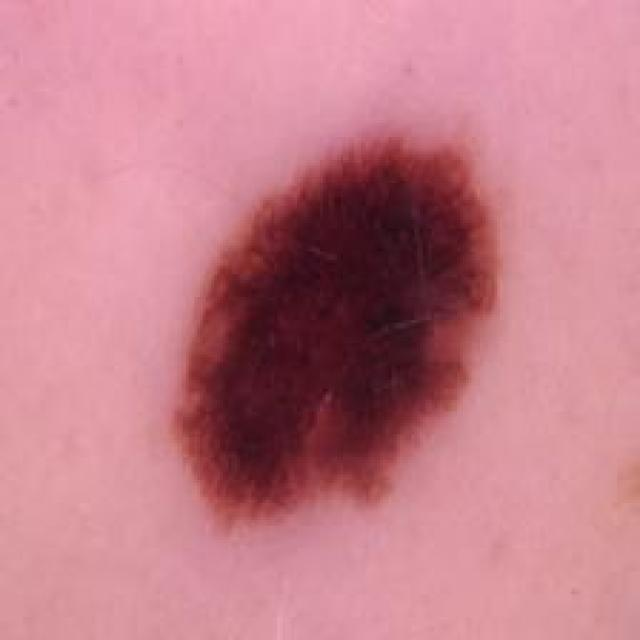Cancer: (170, 128, 501, 528)
